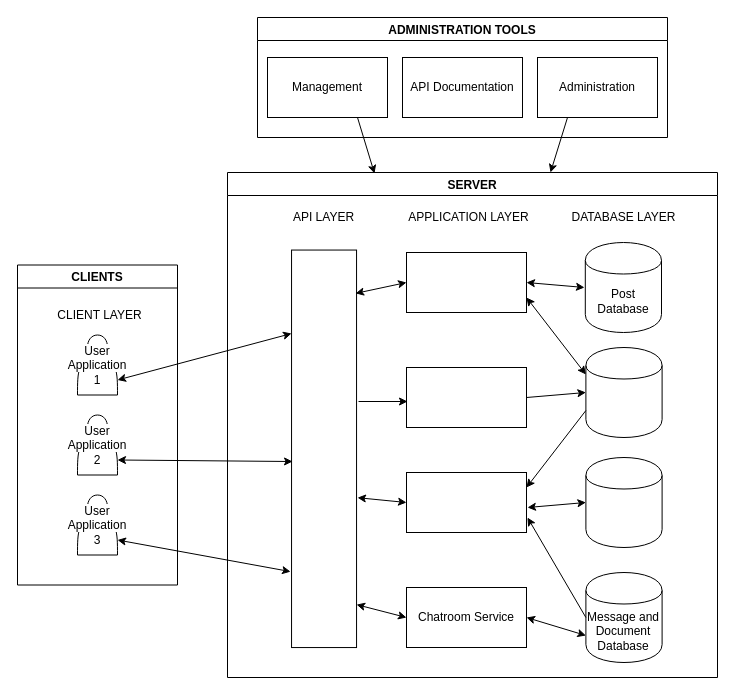
This 735x695 diagram has some shape labels left out. Here are the shapes that lost their labels. From the top down, the centre of each, then its label:
[466,282]: Forum Server
[466,397]: Matching Recommendation System
[623,392]: User Database
[324,448]: WEB Service API
[466,502]: Consultation Service
[623,502]: Consultation Database
